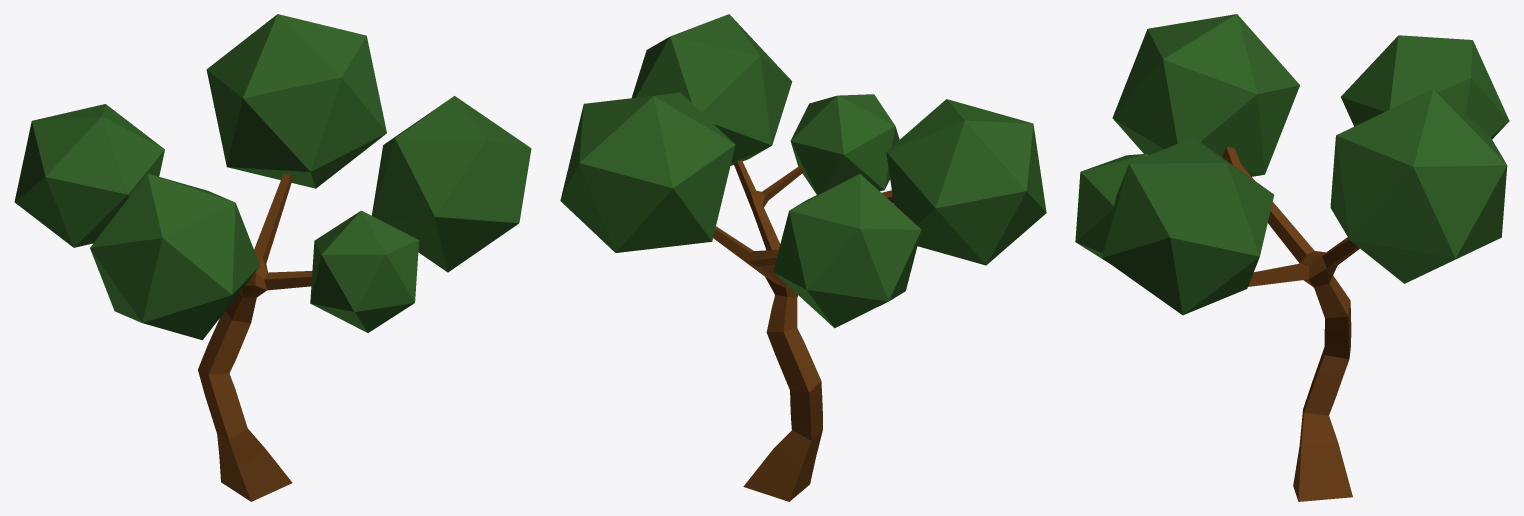
The model's file is Tree #2.fbx.
The picture shows the model from 3 angles, left to right: view 1: azimuth 30°, elevation 25°; view 2: azimuth 150°, elevation 25°; view 3: azimuth 270°, elevation 25°; orthographic projection. The views are drawn at different scales.
Parts seen in each view (by area): view 1: Icosphere.011; view 2: Icosphere.011; view 3: Icosphere.011.
Part boxes in pixels (left/top/right/bottom): Icosphere.011: left=14, top=14, right=531, bottom=501; Icosphere.011: left=560, top=14, right=1046, bottom=501; Icosphere.011: left=1075, top=14, right=1509, bottom=501.
Bounding box in the file's own units: 2093 × 2023 × 1790.
